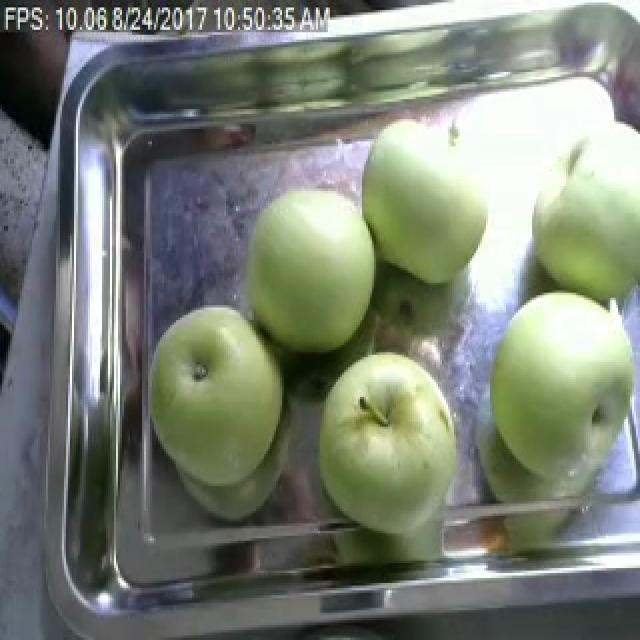50-_ripeness: (483, 283, 635, 486), (323, 349, 471, 543), (147, 300, 290, 491), (356, 100, 495, 289), (242, 181, 377, 358)
